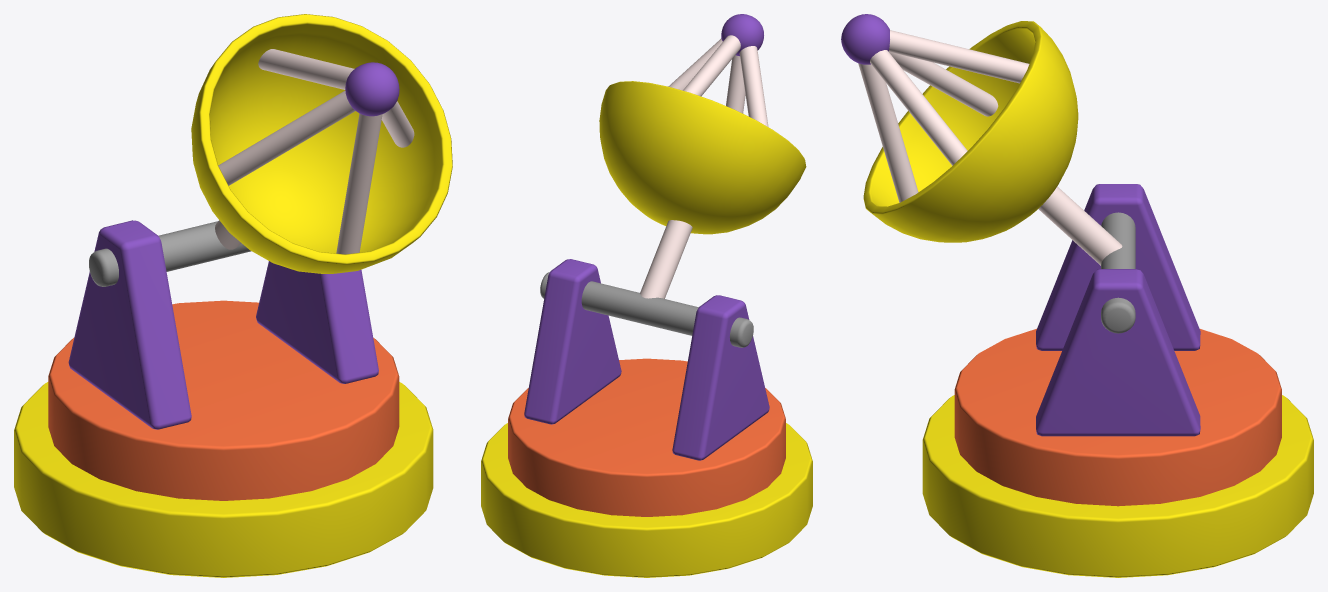
File: Public_17_Satellite_Receiver_1.glb
3 renders of one model, left to right at view 1: azimuth 30°, elevation 25°; view 2: azimuth 150°, elevation 25°; view 3: azimuth 270°, elevation 25°, orthographic. The views are drawn at different scales.
Visible parts, largest first — view 1: Public_17_Satellite_Receiver_1; view 2: Public_17_Satellite_Receiver_1; view 3: Public_17_Satellite_Receiver_1.
Part boxes in pixels (x1,y1,x2,y2): Public_17_Satellite_Receiver_1: (14, 14, 452, 577); Public_17_Satellite_Receiver_1: (481, 14, 812, 577); Public_17_Satellite_Receiver_1: (841, 14, 1313, 577).
Size of the model in its own units: 2.39 by 3.28 by 2.89.
1 material, 1 textured.
